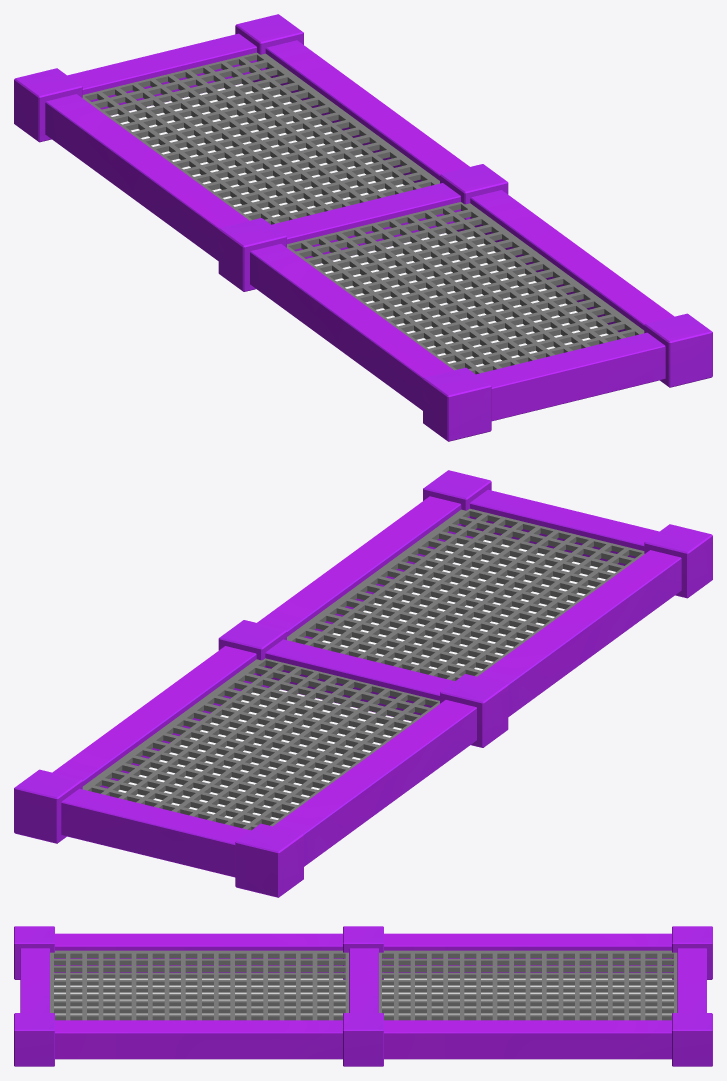
File: BridgeTwoSegmentPink.fbx
3 views of the same model, one above another, from view 1: azimuth 30°, elevation 25°; view 2: azimuth 150°, elevation 25°; view 3: azimuth 270°, elevation 25° (orthographic). The views are drawn at different scales.
Parts seen in each view (by area): view 1: Cube, Grate.001; view 2: Cube, Grate.001; view 3: Cube, Grate.001.
Part boxes in pixels (bbox=[...]): Cube: bbox=[14, 14, 712, 441]; Grate.001: bbox=[82, 52, 644, 374]; Cube: bbox=[14, 470, 712, 897]; Grate.001: bbox=[82, 508, 644, 830]; Cube: bbox=[14, 926, 712, 1066]; Grate.001: bbox=[50, 950, 677, 1020].
Size of the model in its own units: 6 by 1 by 17.
